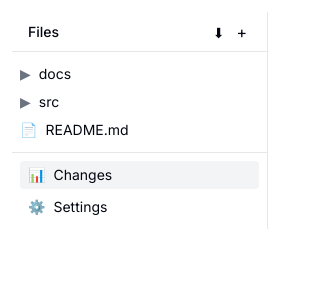
Test case: Sidebar › collapses directory when clicked again
Click the text "docs" at (55, 74), box [39,64,71,84]
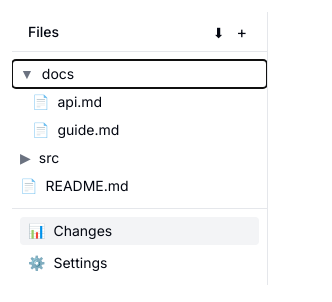
Check: the text "guide.md" is shown, box [58,121,119,138]
Click the text "docs" at (58, 74), box [42,64,74,84]
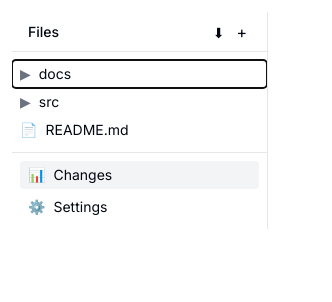
Check: the link "guide.md" is gone
